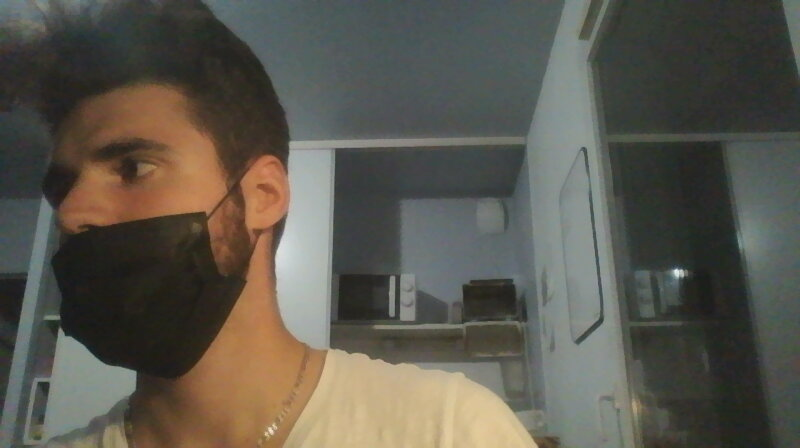with_incorrect_mask: (33, 121, 267, 373)
